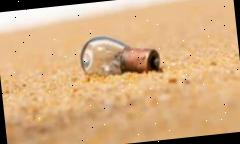lightbulb: (77, 29, 161, 80)
